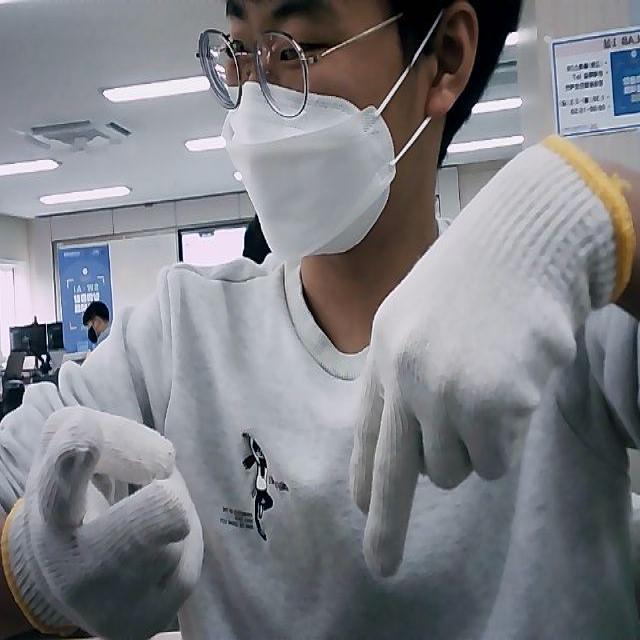gloves: (348, 138, 632, 578), (2, 407, 204, 638)
